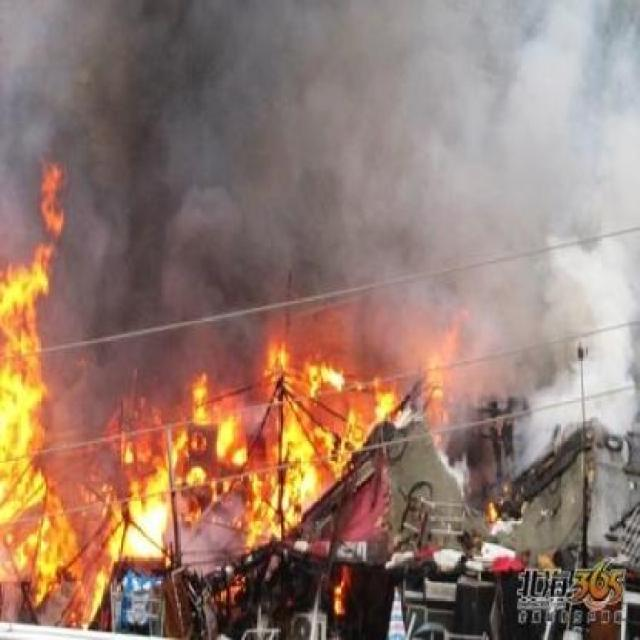Fire: (118, 306, 455, 540), (1, 157, 98, 626), (333, 566, 356, 632), (216, 568, 246, 612)
